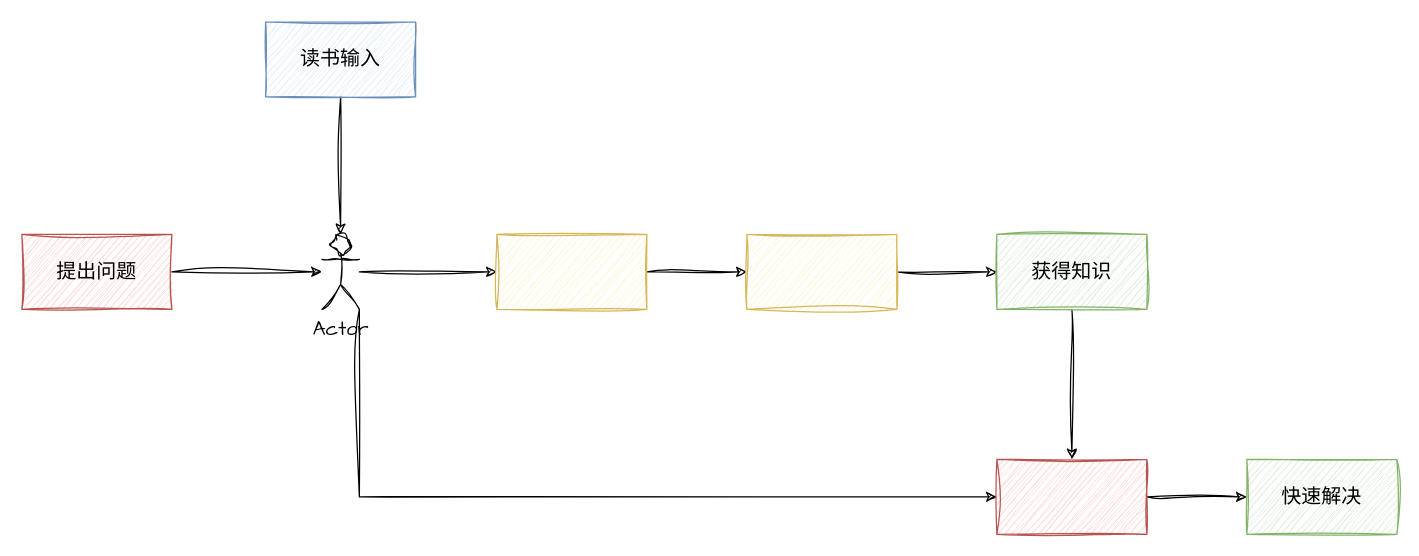
The diagram is 1419 pixels wide and 556 high, and some of its shapes have lost their labels. The centre of each missing label's shape, as x and y in pixels:
产出解决方案: (x=821, y=271)
同类问题: (x=1071, y=496)
复盘内化: (x=571, y=271)
